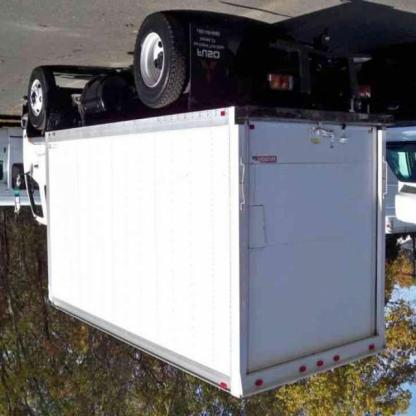truck: (14, 20, 387, 402)
